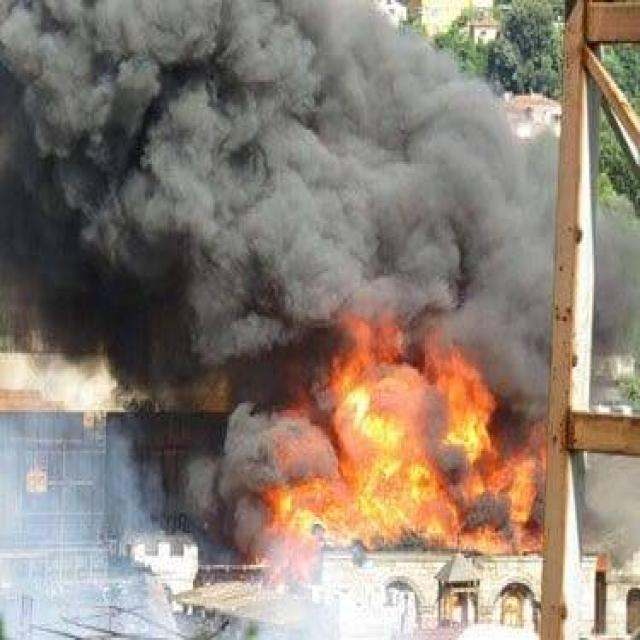Fire: (225, 315, 580, 569)
Smoke: (0, 0, 597, 348)
